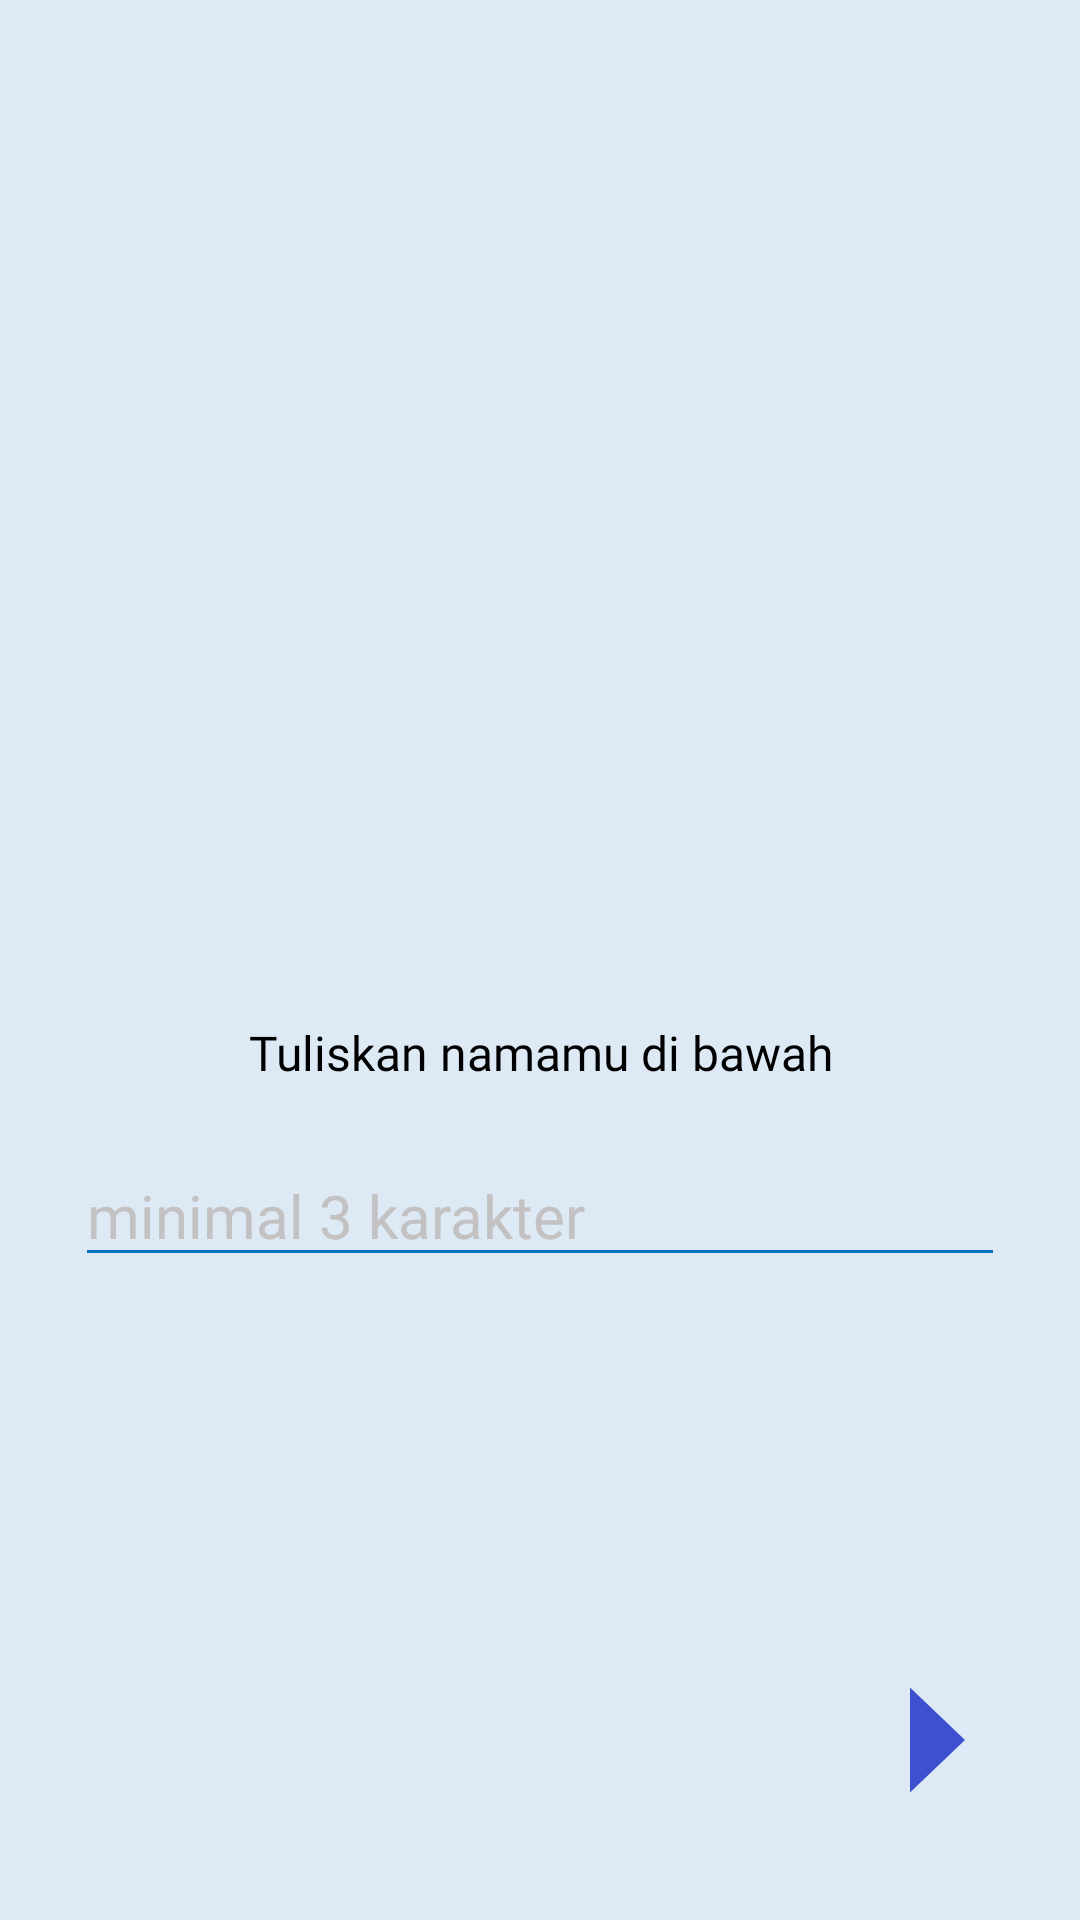

Icons on this 1080 x 1920 Android screen, each with its box as rect(x1, y1, x2, y2):
arrow: rect(910, 1688, 965, 1792)
